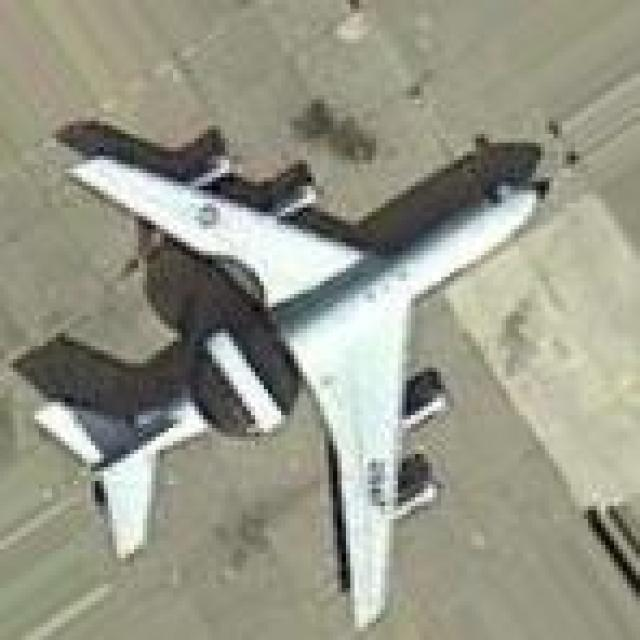E-3_TopDown: (9, 108, 549, 627)
